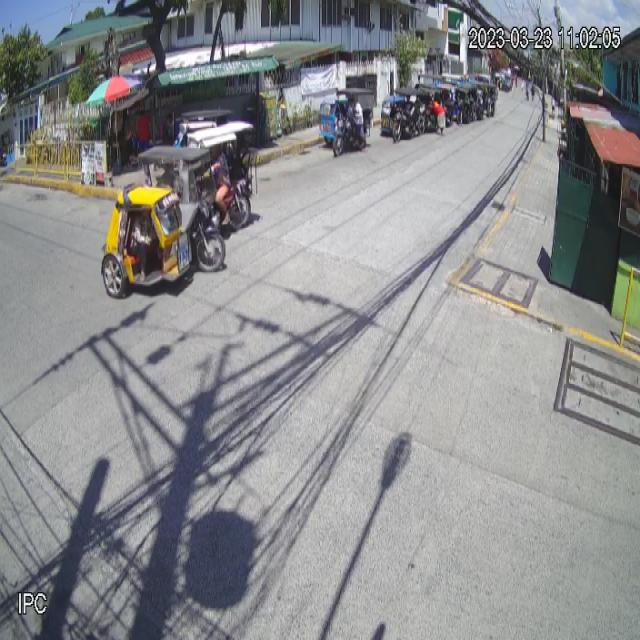Tricycle: (100, 146, 226, 300)
